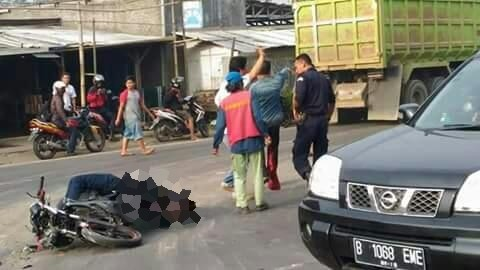plate: (350, 237, 422, 266)
